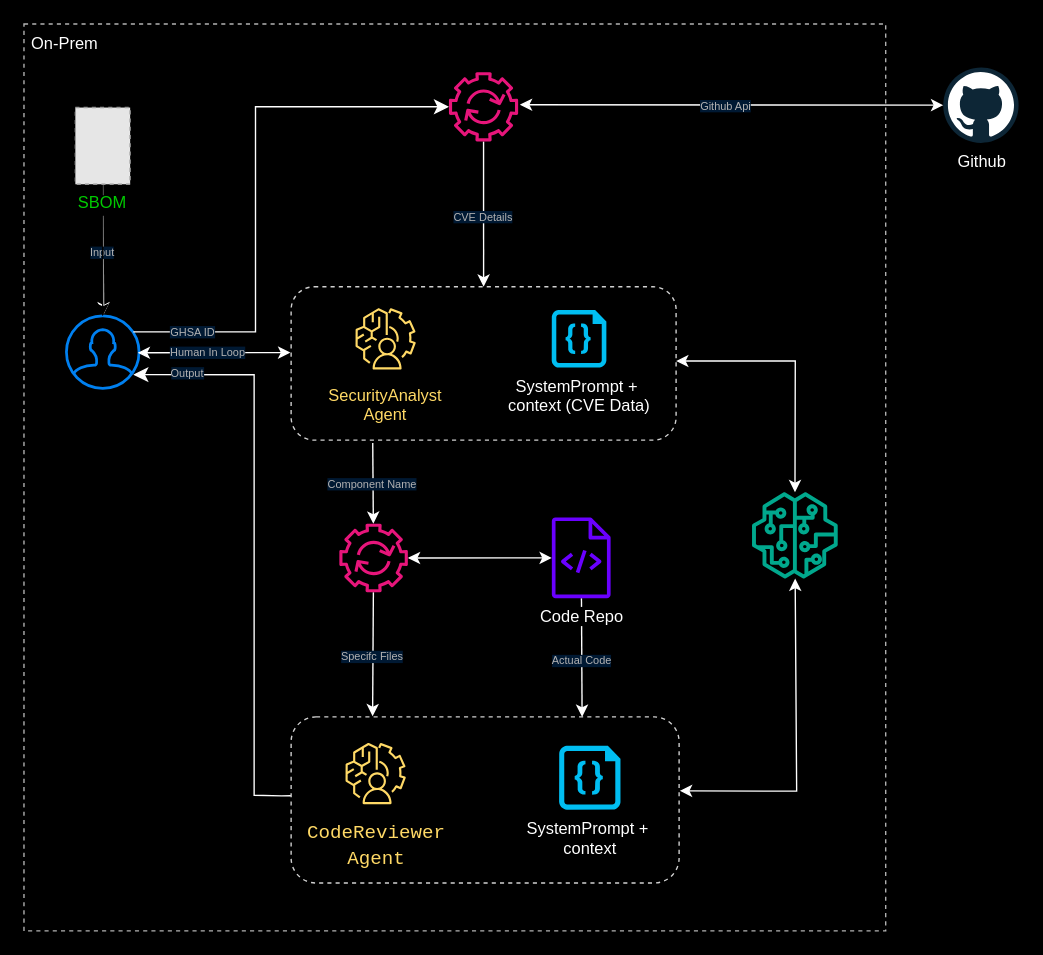
The diagram is 1043 pixels wide and 955 high, and some of its shapes have lost their labels. Grey dashed boxes stand in for pictures. The shapes that lost their labels are listed below. From the top down, each one's centre as x and y in pixels, then its label:
point 482,106: GithubAdvisoryTool
point 102,351: User
point 794,535: Model
point 373,557: ComponentSearcherTool
